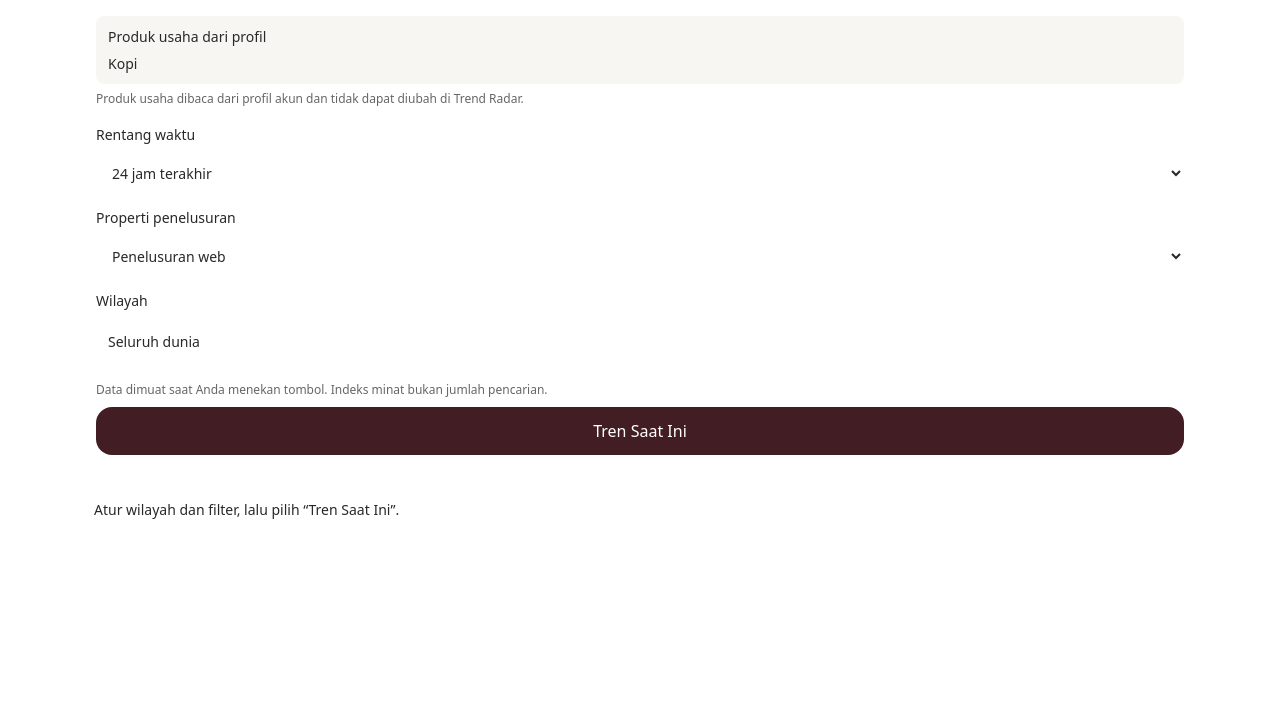
Test: TrendRadarPanel › applies a selected international geography to every dataset and keeps its regional table
The width and height of the screenshot is (1280, 720).
Replace the text in the dropdown labelled "Wilayah" with "Amerika Serikat" at (640, 341), box left=96, top=317, right=1184, bottom=365
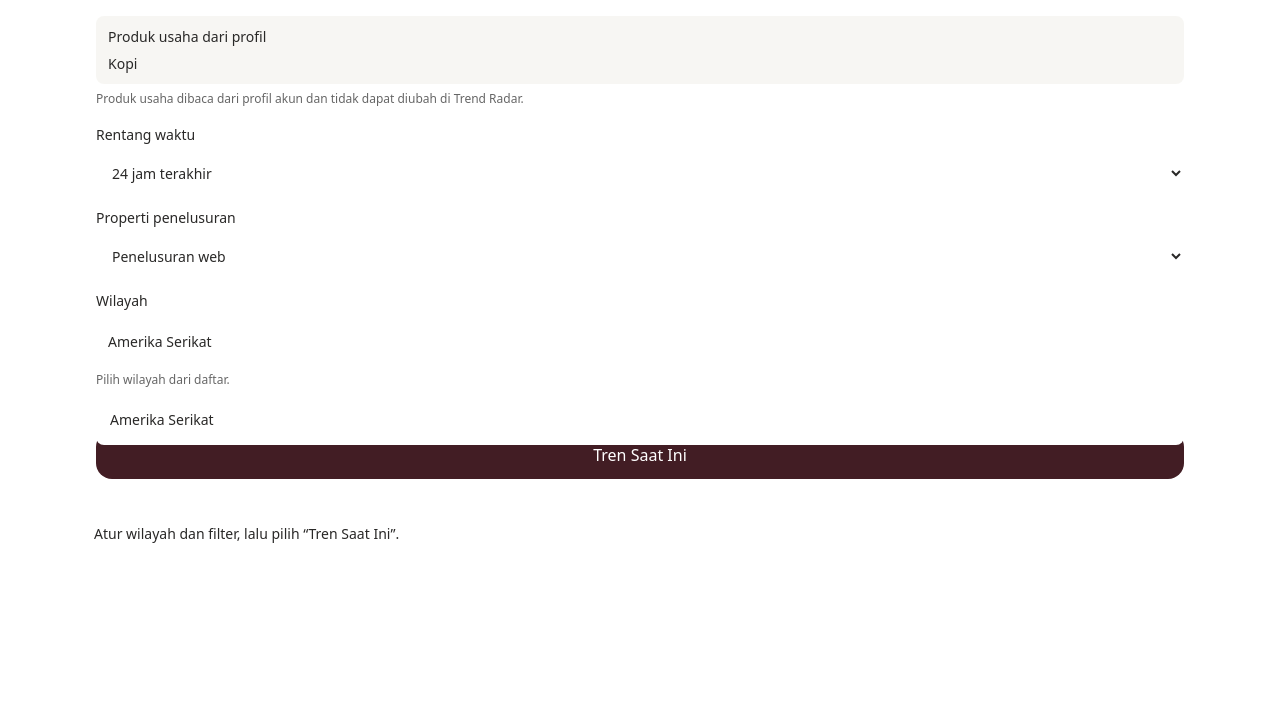
Click the option "Amerika Serikat" at (162, 419), box left=110, top=410, right=214, bottom=428
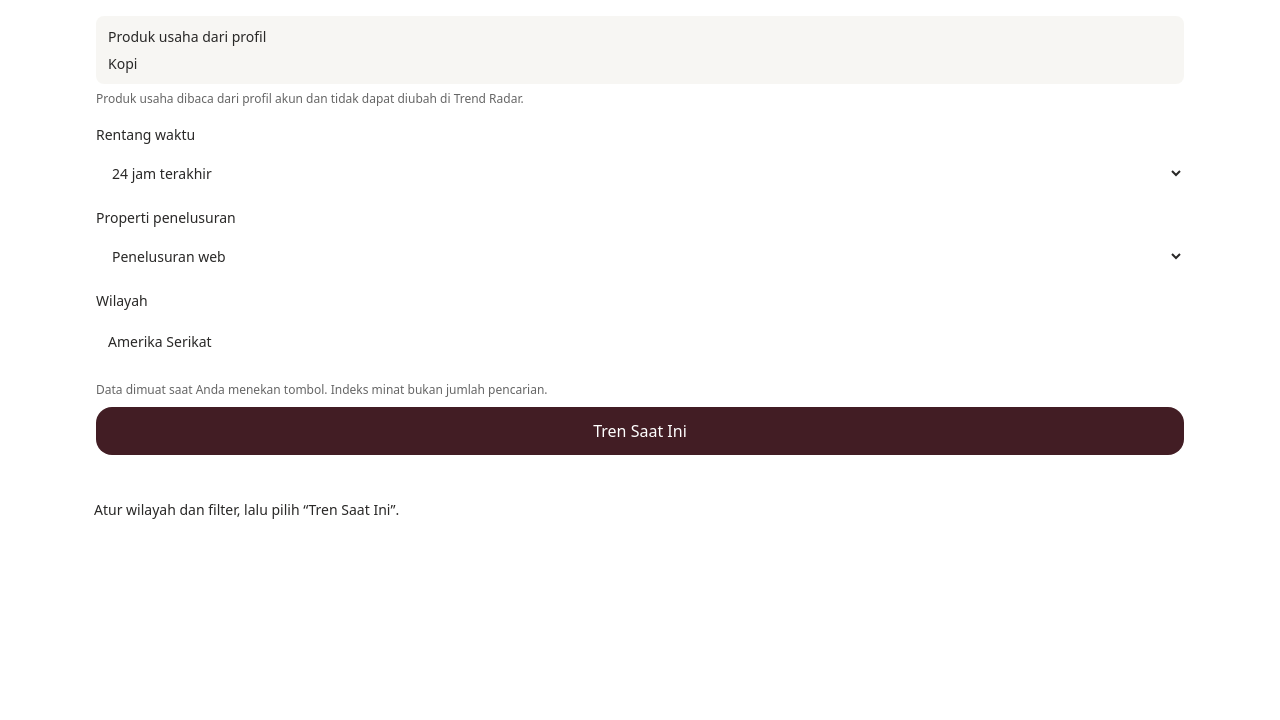
Click the button "Tren Saat Ini" at (640, 431), box left=96, top=407, right=1184, bottom=455
(page scrolled)
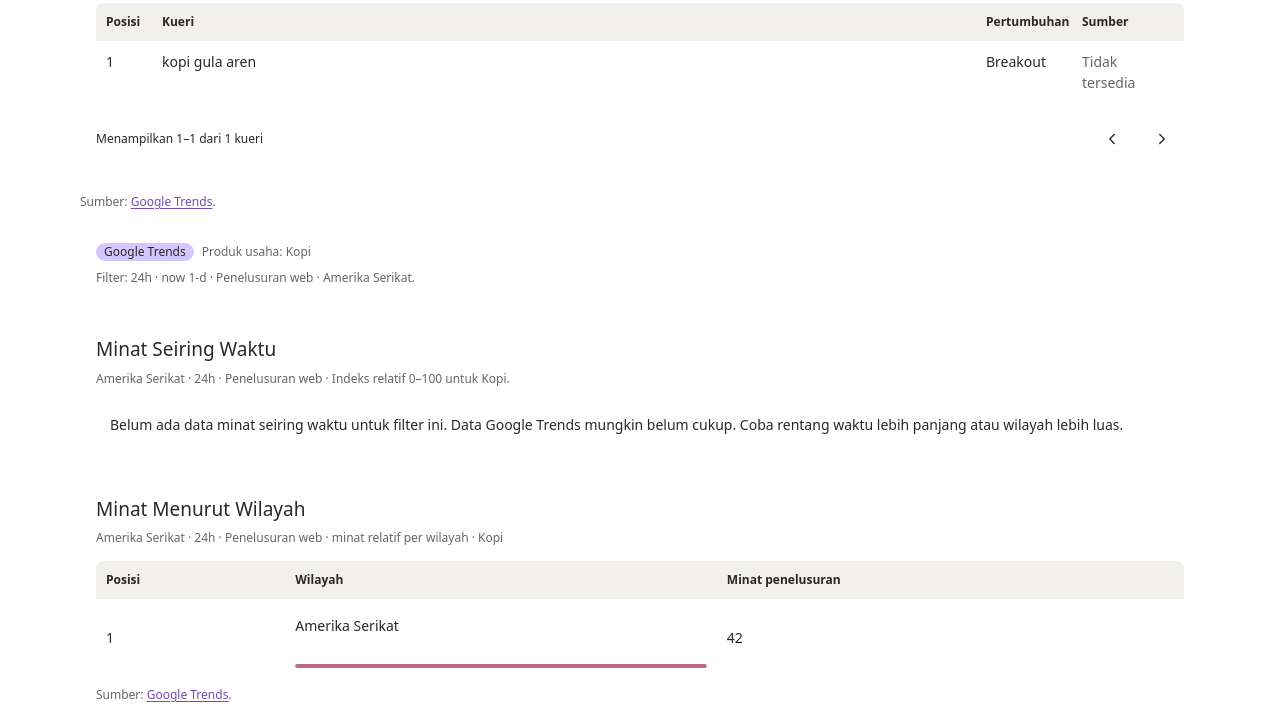
Expected: the heading "Minat Menurut Wilayah" is shown, left=96, top=496, right=305, bottom=522
Expected: the button "Amerika Serikat" is shown, left=295, top=607, right=707, bottom=644
